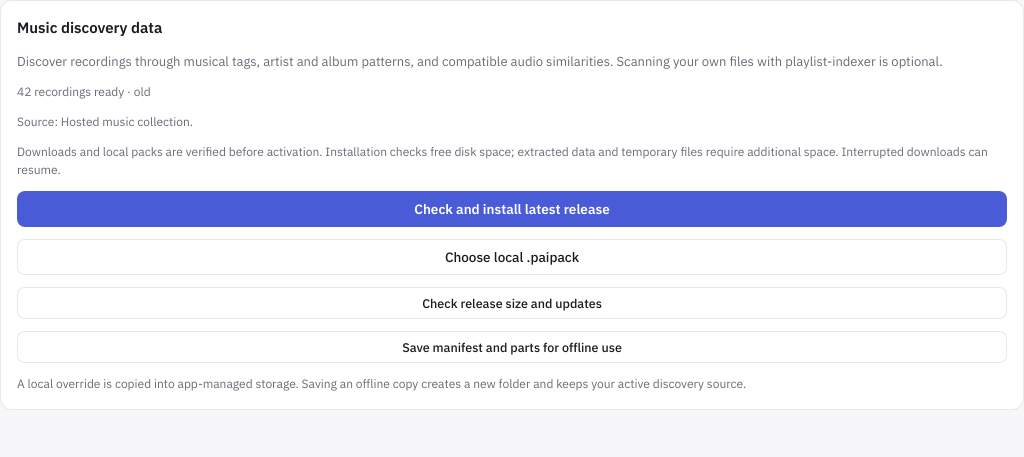
Test: keeps a verified release available after an update failure
Click the button "Check and install latest release": (512, 209) [17, 191, 1007, 227]
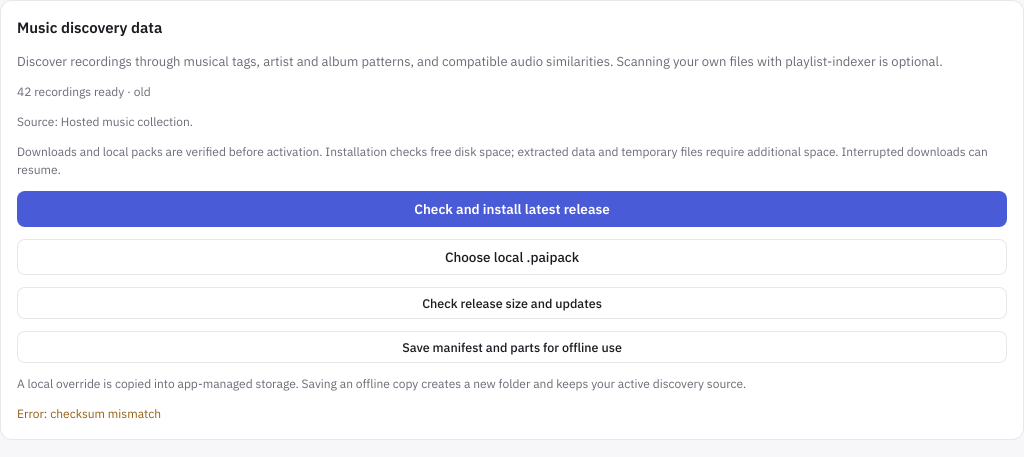
expect the text "42 recordings ready · old" is shown: met, box [17, 84, 151, 99]
expect the message "Error: checksum mismatch" is shown: met, box [17, 406, 161, 421]
